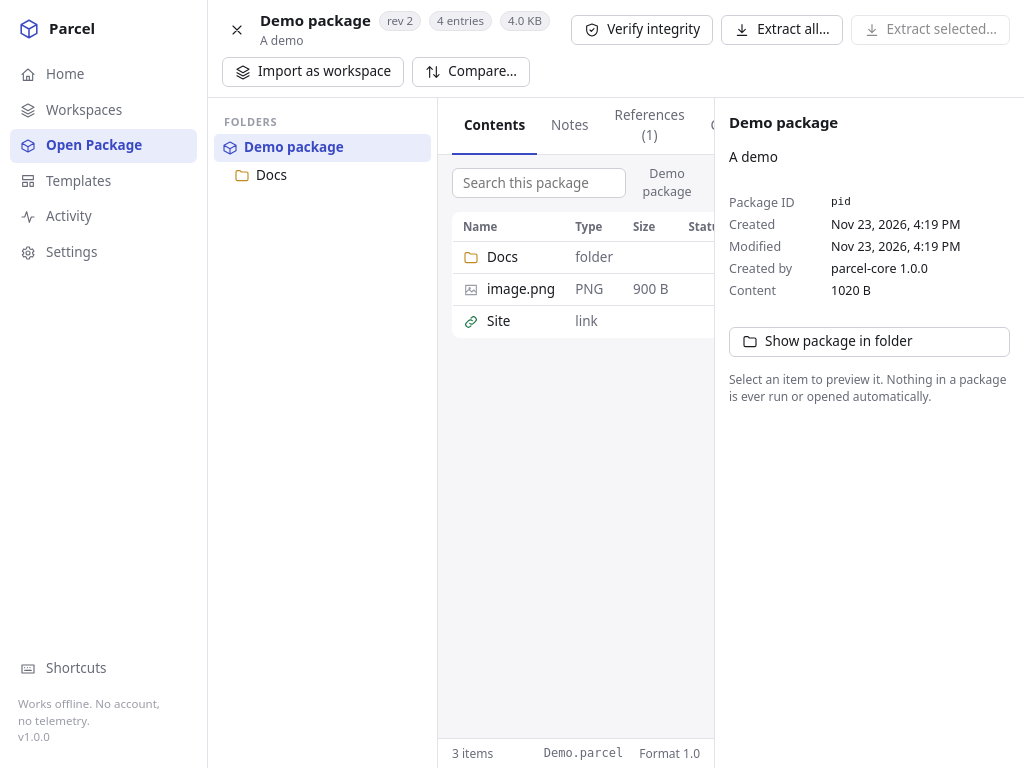
Test: package explorer › shows notes and stored references without contacting them
What coordinates should you click on to do the following:
click the tab "Notes"
I would click on:
 (570, 127)
Its box is x1=539 y1=98 x2=600 y2=155.
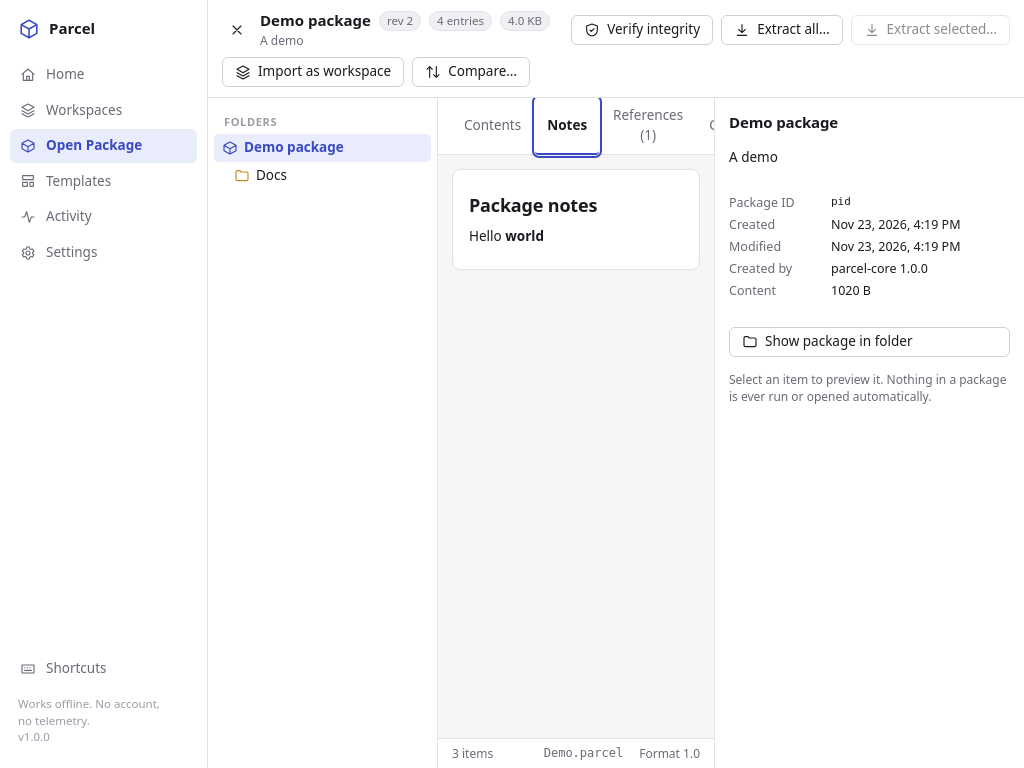
Check: the heading "Package notes" is shown, box x1=469 y1=193 x2=597 y2=217
What coordinates should you click on to do the following:
click the tab "References (1)"
I would click on:
 (648, 127)
Its box is x1=601 y1=98 x2=695 y2=155.
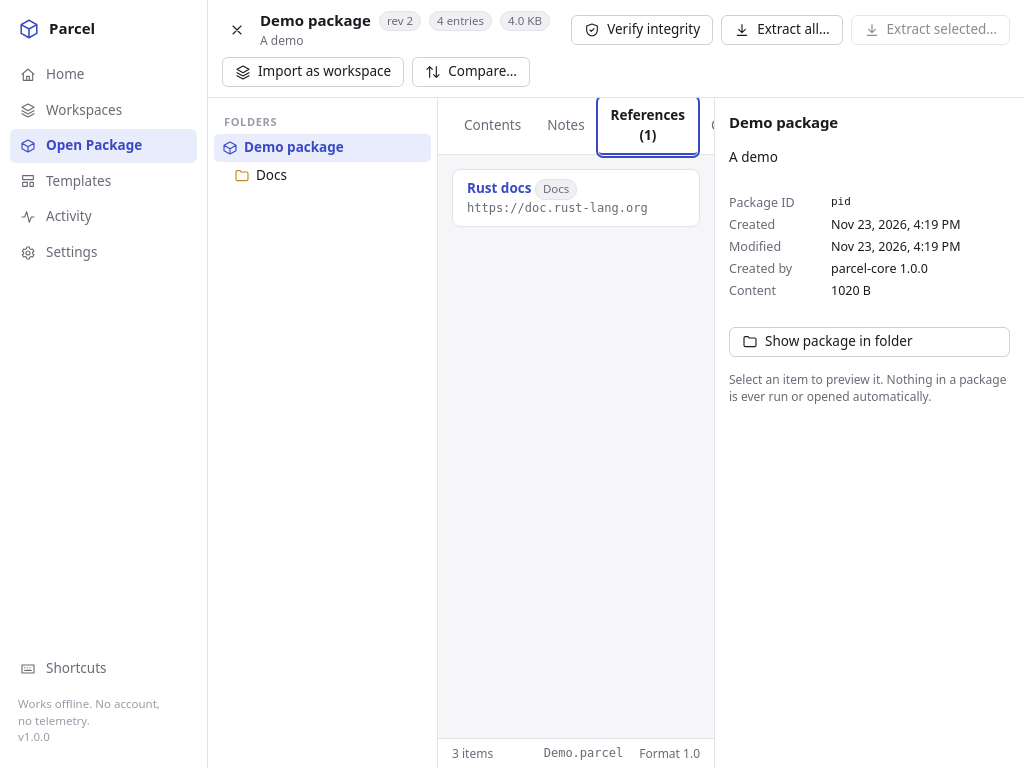
Check: the text "https://doc.rust-lang.org" is shown, box x1=467 y1=201 x2=648 y2=215
